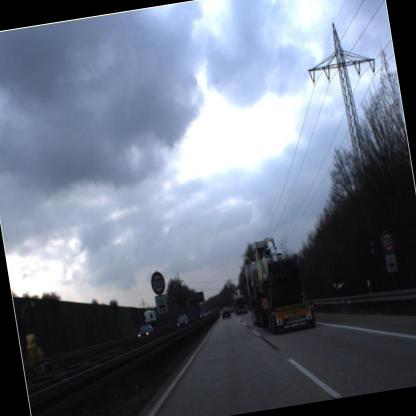prohibitory: (146, 265, 166, 296), (376, 225, 396, 254)
